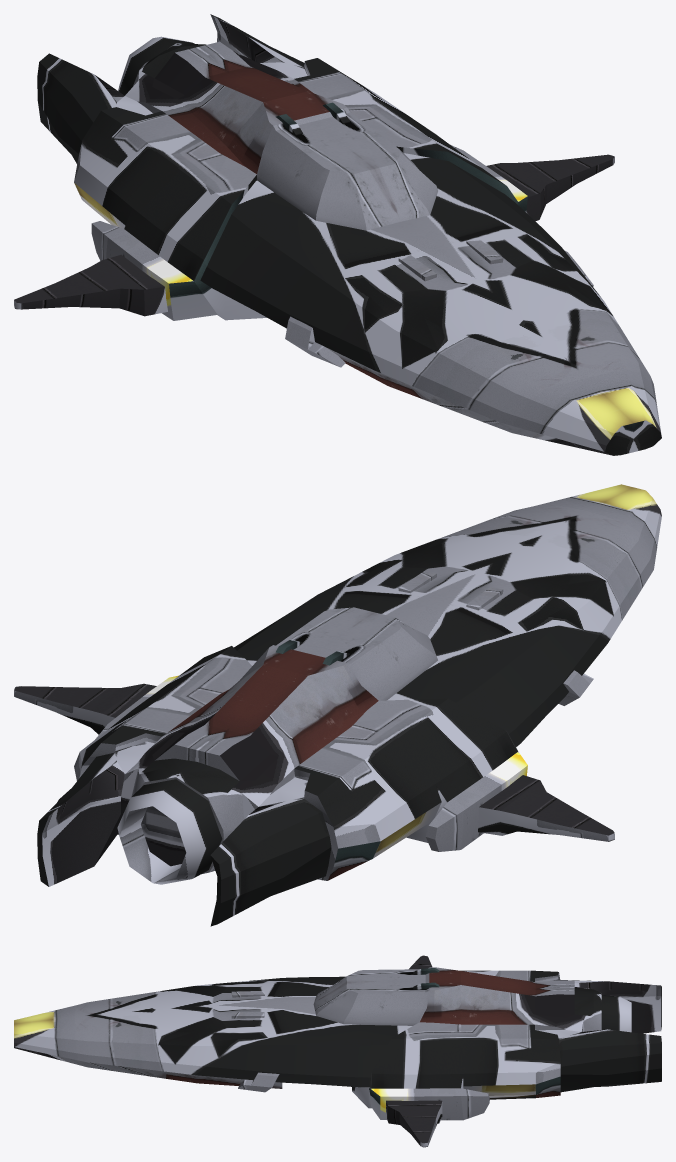
File: Old_Glider_model.FBX
The picture shows the model from 3 angles, top to bottom: view 1: azimuth 30°, elevation 25°; view 2: azimuth 150°, elevation 25°; view 3: azimuth 270°, elevation 25°; orthographic projection. The views are drawn at different scales.
Parts seen in each view (by area): view 1: Glider_body; view 2: Glider_body; view 3: Glider_body.
Boxes of the visible parts, x1,y1,x2,y2 form: Glider_body: (14,14,661,455); Glider_body: (14,484,661,926); Glider_body: (14,955,661,1147).
Size of the model in its own units: 136 by 30.59 by 198.
